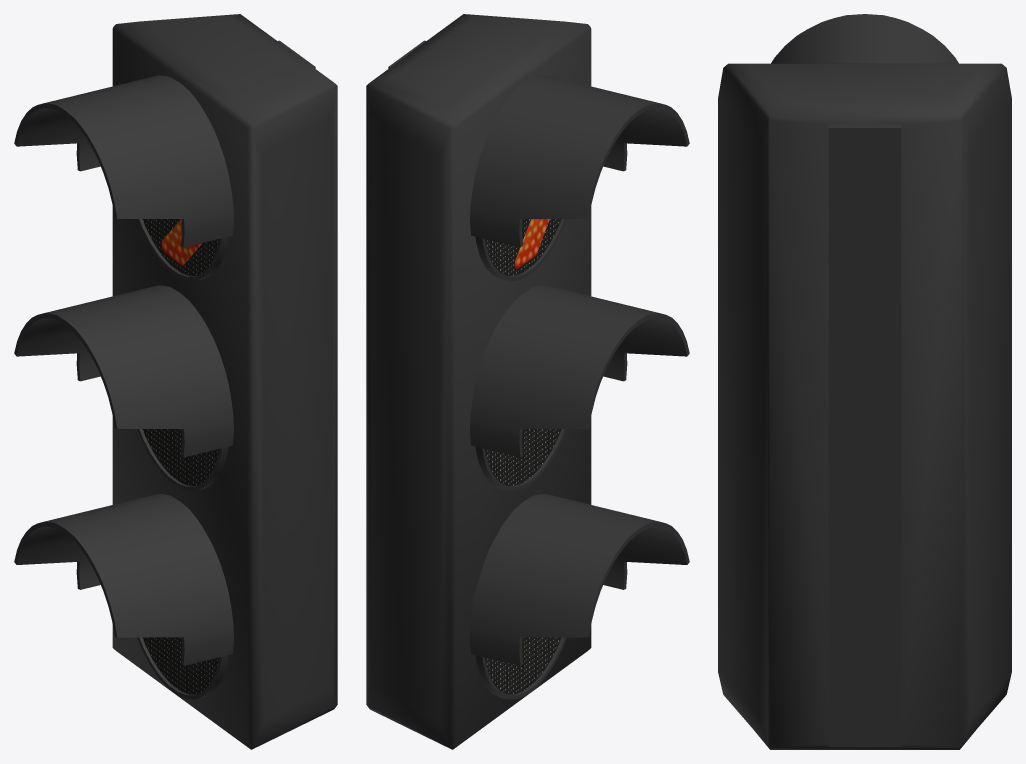
The model's file is 竖排右转灯_RedLight.fbx.
3 views of the same model, side by side, from view 1: azimuth 30°, elevation 25°; view 2: azimuth 150°, elevation 25°; view 3: azimuth 270°, elevation 25° (orthographic).
Parts seen in each view (by area): view 1: 竖排右转灯_RedLight; view 2: 竖排右转灯_RedLight; view 3: 竖排右转灯_RedLight.
Boxes of the visible parts, <box> form: 竖排右转灯_RedLight: <box>14,14,337,749</box>; 竖排右转灯_RedLight: <box>366,14,689,749</box>; 竖排右转灯_RedLight: <box>718,14,1011,749</box>.
Bounding box in the file's own units: 0.6 × 1.58 × 0.65.
Materials: 3 (2 with a texture image).
